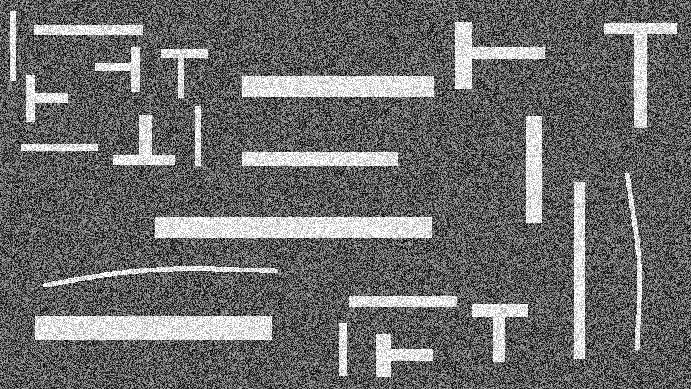LaneMark: (151, 211, 438, 245), (28, 311, 279, 348), (600, 17, 681, 130), (449, 15, 550, 93), (238, 70, 439, 104), (38, 264, 283, 291), (619, 168, 649, 350), (469, 298, 536, 365), (110, 111, 180, 170), (569, 178, 590, 363), (238, 147, 404, 169), (520, 108, 547, 227), (372, 330, 435, 379), (156, 45, 212, 100), (89, 43, 145, 96), (22, 70, 72, 128), (30, 22, 149, 38), (345, 293, 461, 309), (16, 139, 102, 157), (4, 7, 21, 86), (333, 317, 353, 378), (191, 102, 206, 170)
